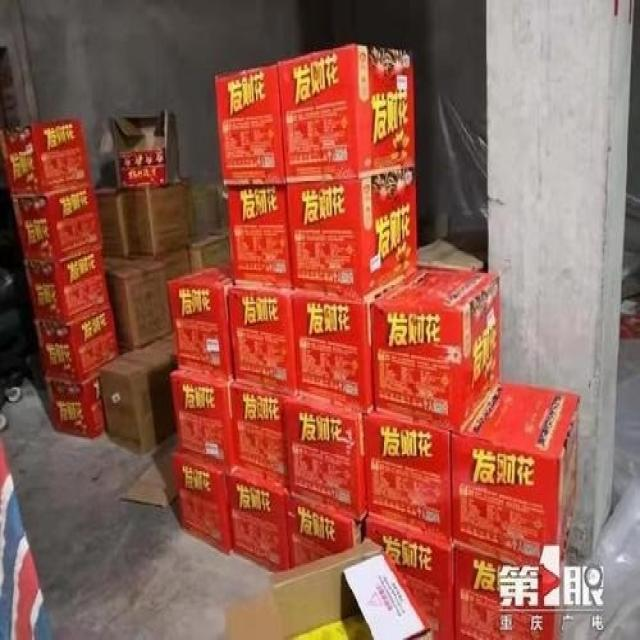box: (451, 382, 580, 574), (371, 267, 499, 434), (277, 44, 415, 183), (285, 167, 418, 302), (363, 412, 451, 544), (363, 513, 454, 638), (454, 541, 565, 638), (291, 290, 376, 416), (284, 393, 367, 521), (214, 64, 285, 185), (166, 259, 233, 382), (98, 349, 174, 457), (225, 282, 295, 396), (93, 179, 192, 259), (226, 283, 295, 396), (0, 116, 92, 196), (12, 184, 102, 263), (169, 367, 237, 471), (226, 183, 293, 288), (230, 380, 292, 488), (102, 255, 172, 350), (174, 450, 234, 559), (25, 247, 111, 323), (35, 306, 118, 384), (229, 469, 290, 572), (287, 491, 365, 569), (46, 375, 106, 441)
